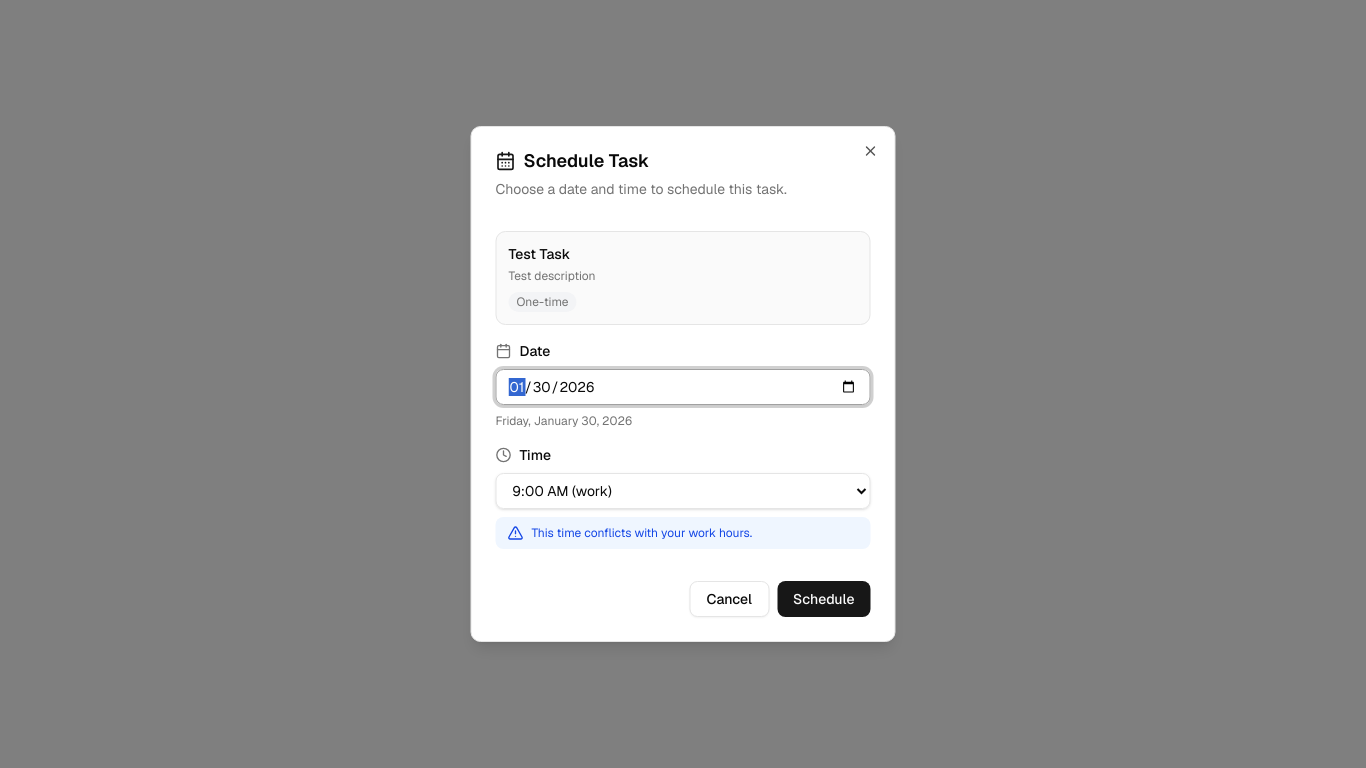
Scenario: ScheduleTaskDialog › actions › shows error message when scheduling fails
This screenshot has width=1366, height=768.
Step 1. Click the button with test id "schedule-task-dialog-schedule-btn" → click(824, 599), box [777,581,870,617]
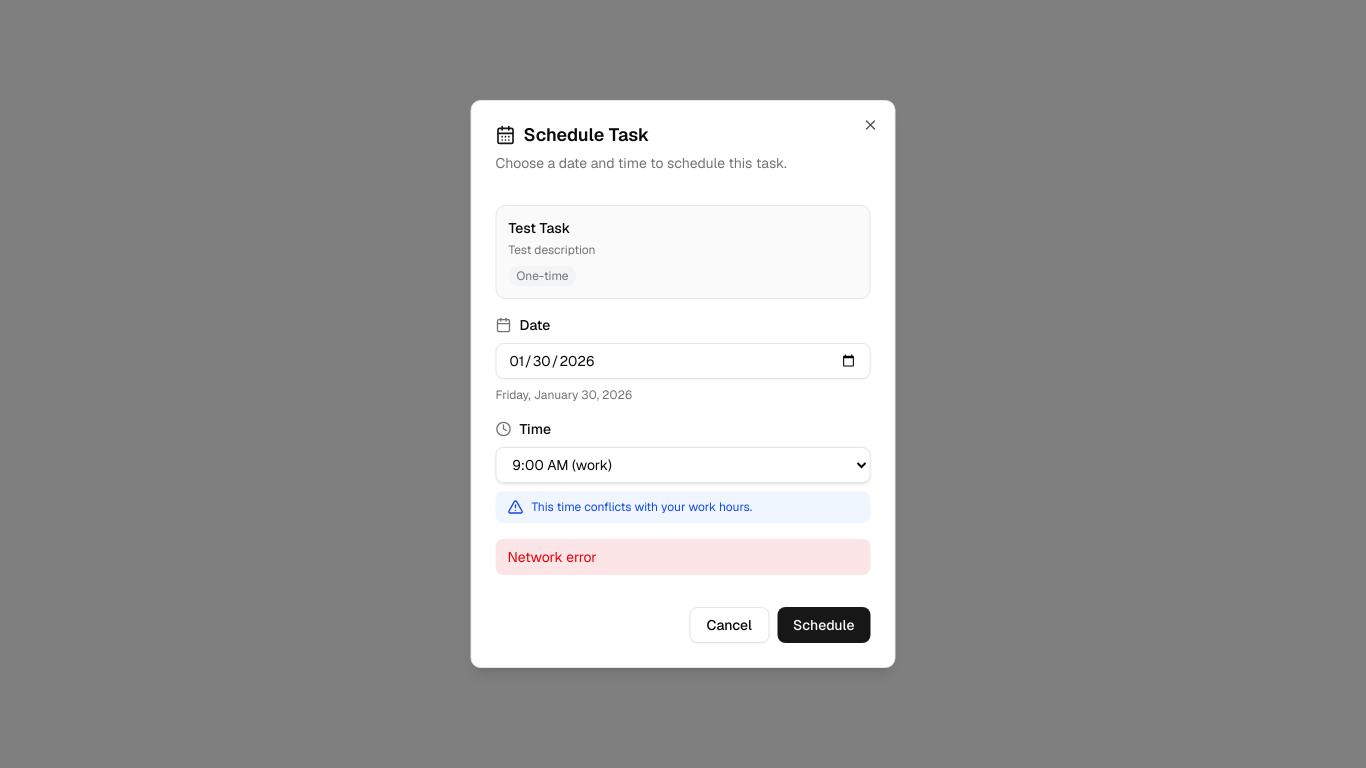
expect the text with test id "schedule-task-dialog-error" reads "Network error": met, box [508,548,597,566]
